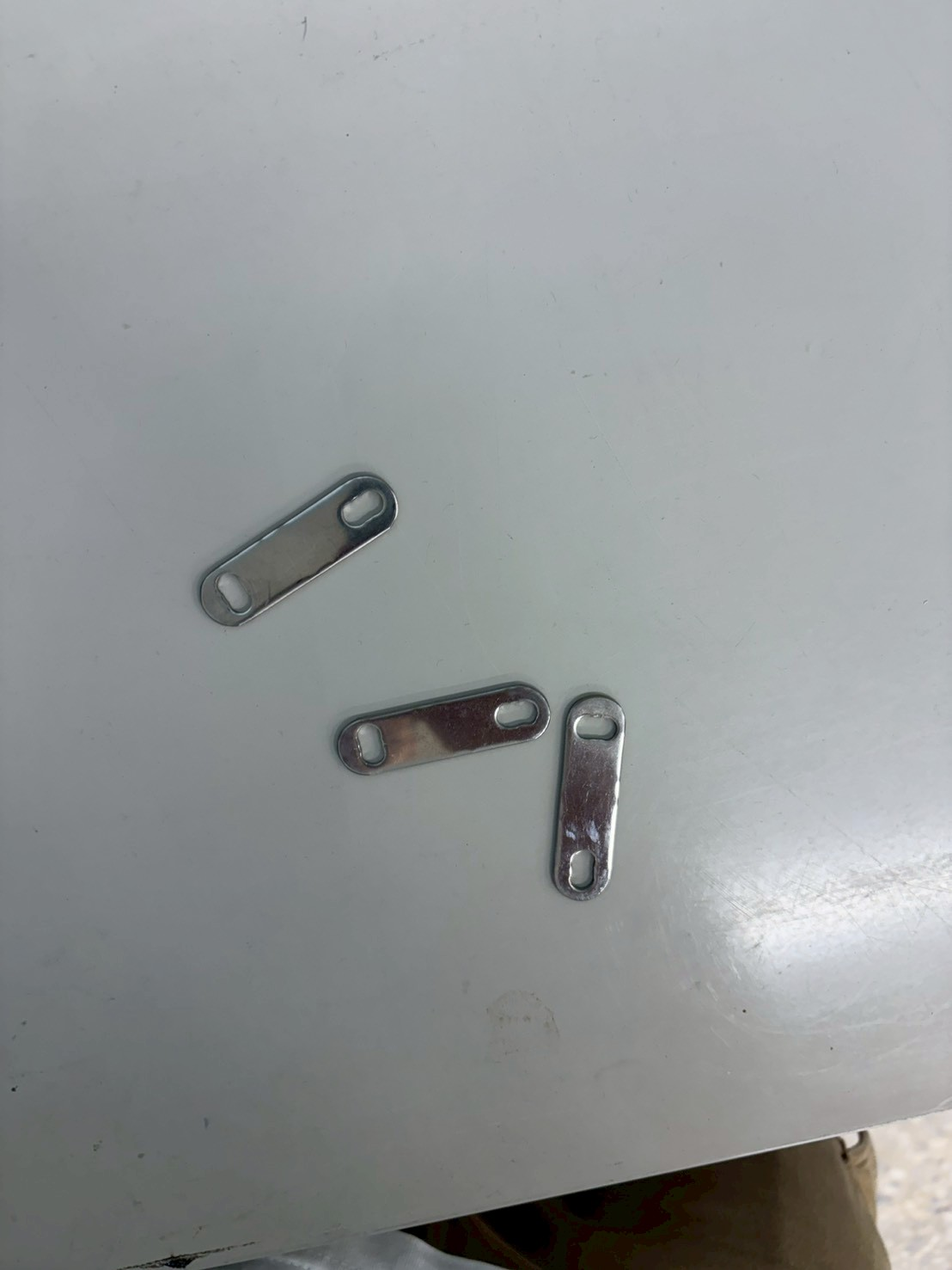Fe: (560, 665, 635, 919), (381, 458, 456, 712), (550, 670, 625, 924)
